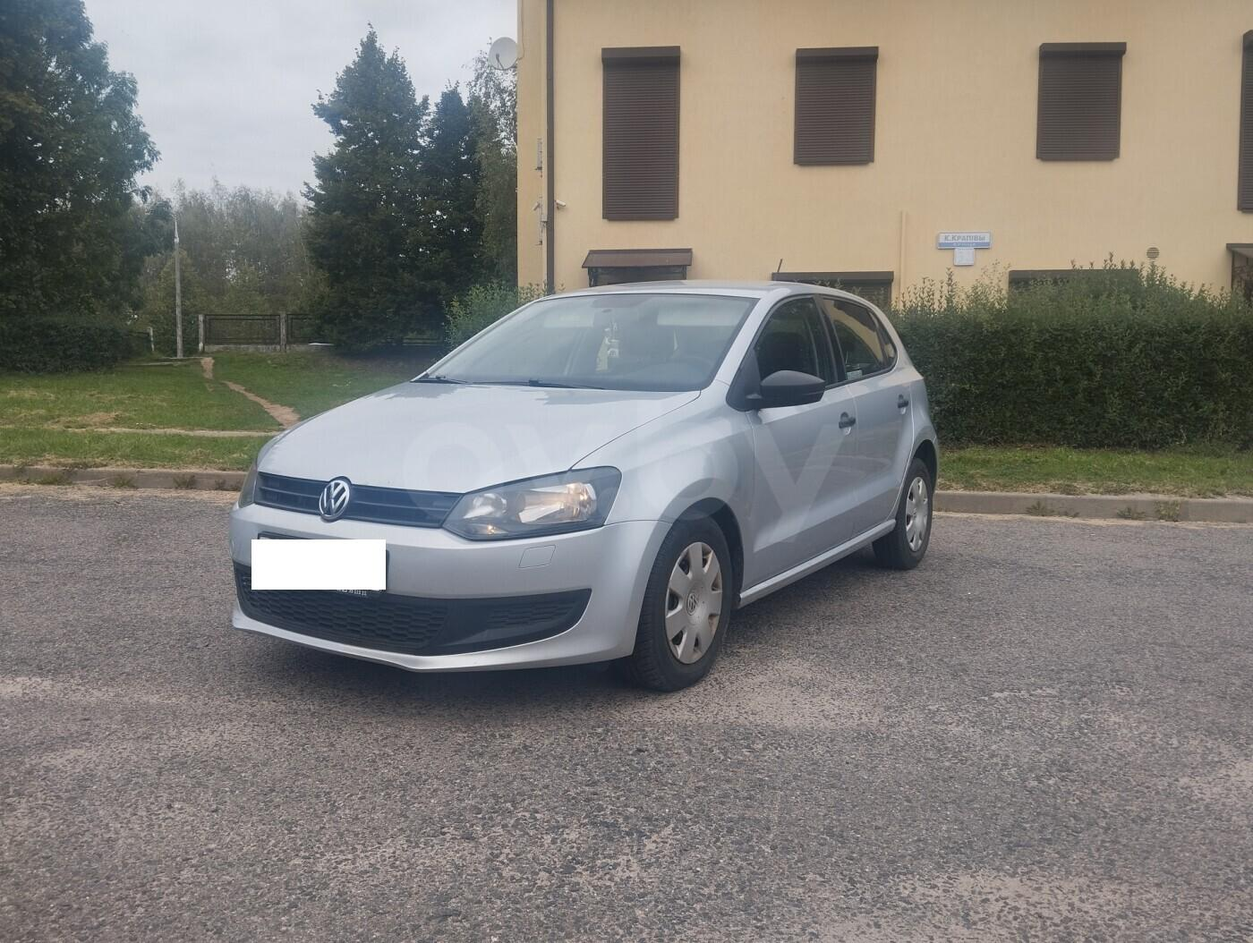Polo_2009-2015: (189, 266, 934, 715)
